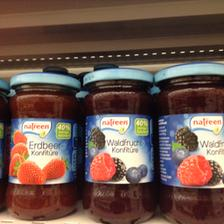Marmelade: (80, 67, 156, 223), (5, 71, 82, 219), (152, 61, 222, 222)
